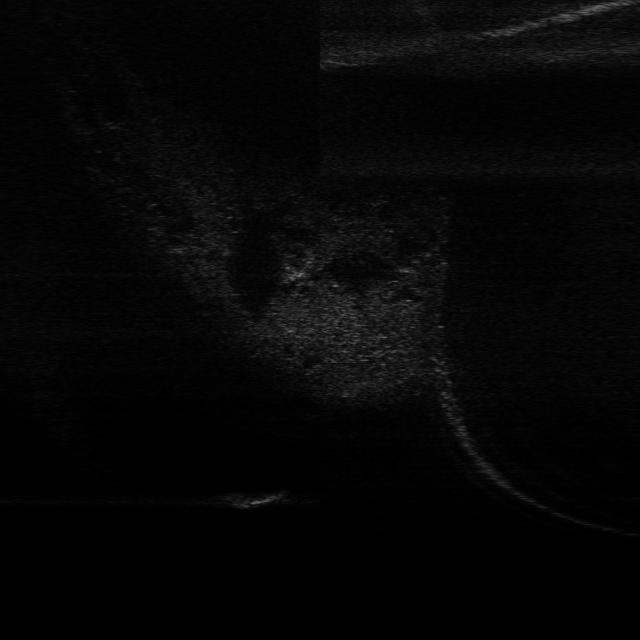cube: (220, 485, 290, 511)
